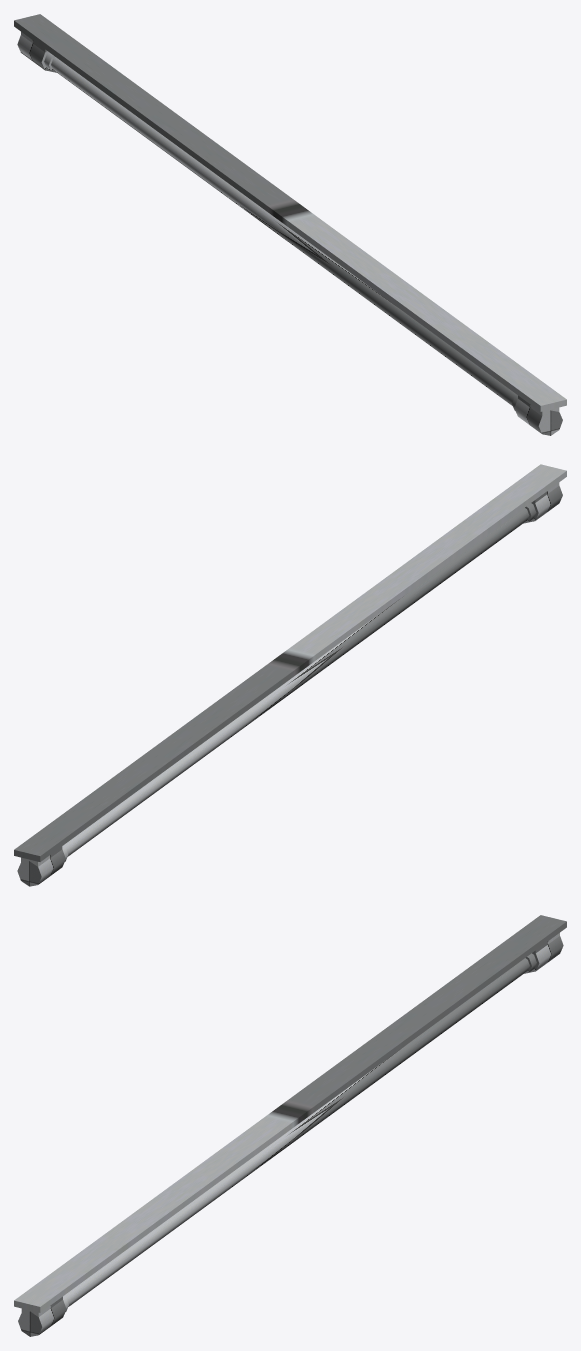
The model's file is SM_coridor_lamp_400.fbx.
3 renders of one model, top to bottom at view 1: azimuth 30°, elevation 25°; view 2: azimuth 150°, elevation 25°; view 3: azimuth 330°, elevation 25°, orthographic.
Parts seen in each view (by area): view 1: pCylinder15; view 2: pCylinder15; view 3: pCylinder15.
Part boxes in pixels (x1=…): pCylinder15: x1=14, y1=14, x2=566, y2=435; pCylinder15: x1=14, y1=464, x2=566, y2=886; pCylinder15: x1=14, y1=915, x2=566, y2=1336.
Size of the model in its own units: 0.114 by 0.1468 by 3.96.
